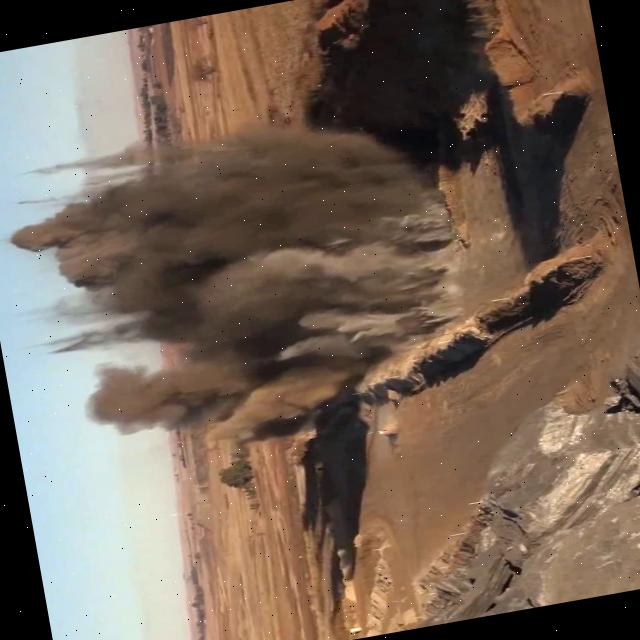explosion: (0, 40, 605, 538)
